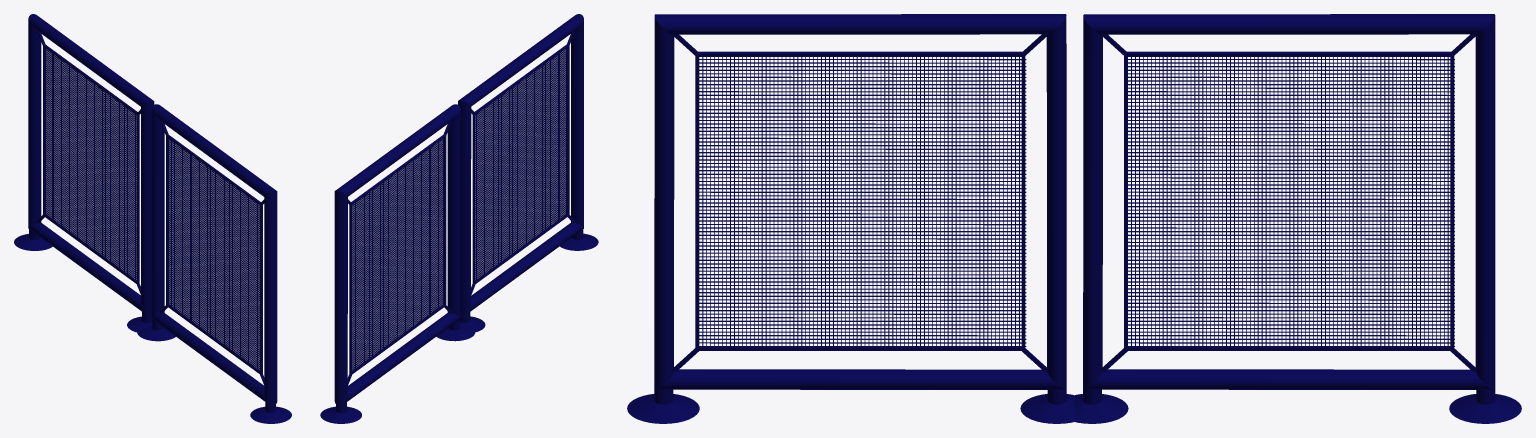
File: GradeMaquinaCartao.obj
3 views of the same model, side by side, from view 1: azimuth 30°, elevation 25°; view 2: azimuth 150°, elevation 25°; view 3: azimuth 270°, elevation 25° (orthographic). The views are drawn at different scales.
Visible parts, largest first — view 1: Mesh.231_Mesh.100_Cylinder.000, Mesh.274_Mesh.029_Cylinder.000, Mesh.085_Mesh.029_Cylinder_Cyl, Mesh.128_Mesh.100_Cylinder.002, Mesh.344_Mesh.063_Cylinder.000, Mesh.015_Mesh.063_Cylinder.001, Mesh.226_Mesh.050_Cylinder.000, Mesh.133_Mesh.050_Cylinder.003, Mesh.033_Mesh.055_Cube.028, Mesh.285_Mesh.085_Cone.000, Mesh.326_Mesh.055_Cube.000, Mesh.309_Mesh.152_Cube.000 (+41 smaller); view 2: Mesh.085_Mesh.029_Cylinder_Cyl, Mesh.128_Mesh.100_Cylinder.002, Mesh.231_Mesh.100_Cylinder.000, Mesh.274_Mesh.029_Cylinder.000, Mesh.344_Mesh.063_Cylinder.000, Mesh.015_Mesh.063_Cylinder.001, Mesh.133_Mesh.050_Cylinder.003, Mesh.226_Mesh.050_Cylinder.000, Mesh.050_Mesh.152_Cube.032, Mesh.309_Mesh.152_Cube.000, Mesh.326_Mesh.055_Cube.000, Mesh.033_Mesh.055_Cube.028 (+41 smaller); view 3: Mesh.344_Mesh.063_Cylinder.000, Mesh.015_Mesh.063_Cylinder.001, Mesh.133_Mesh.050_Cylinder.003, Mesh.226_Mesh.050_Cylinder.000, Mesh.085_Mesh.029_Cylinder_Cyl, Mesh.231_Mesh.100_Cylinder.000, Mesh.274_Mesh.029_Cylinder.000, Mesh.128_Mesh.100_Cylinder.002, Mesh.355_Mesh.155_Cube.000, Mesh.004_Mesh.155_Cube.034, Mesh.054_Mesh.137_Cone.014, Mesh.285_Mesh.085_Cone.000 (+8 smaller).
Part boxes in pixels (x1,y1,x2,y2): Mesh.231_Mesh.100_Cylinder.000: [264, 191, 277, 405]; Mesh.274_Mesh.029_Cylinder.000: [151, 112, 164, 317]; Mesh.085_Mesh.029_Cylinder_Cyl: [28, 14, 41, 227]; Mesh.128_Mesh.100_Cylinder.002: [141, 100, 154, 315]; Mesh.344_Mesh.063_Cylinder.000: [151, 104, 276, 196]; Mesh.015_Mesh.063_Cylinder.001: [28, 14, 152, 106]; Mesh.226_Mesh.050_Cylinder.000: [151, 312, 265, 401]; Mesh.133_Mesh.050_Cylinder.003: [28, 222, 142, 311]; Mesh.033_Mesh.055_Cube.028: [136, 114, 139, 284]; Mesh.285_Mesh.085_Cone.000: [250, 406, 291, 423]; Mesh.326_Mesh.055_Cube.000: [260, 205, 262, 374]; Mesh.309_Mesh.152_Cube.000: [166, 135, 168, 305]; Mesh.085_Mesh.029_Cylinder_Cyl: [334, 190, 347, 405]; Mesh.128_Mesh.100_Cylinder.002: [447, 111, 460, 317]; Mesh.231_Mesh.100_Cylinder.000: [571, 21, 583, 227]; Mesh.274_Mesh.029_Cylinder.000: [458, 100, 471, 315]; Mesh.344_Mesh.063_Cylinder.000: [459, 14, 583, 106]; Mesh.015_Mesh.063_Cylinder.001: [336, 104, 460, 196]; Mesh.133_Mesh.050_Cylinder.003: [345, 312, 460, 402]; Mesh.226_Mesh.050_Cylinder.000: [468, 222, 583, 312]; Mesh.050_Mesh.152_Cube.032: [349, 205, 352, 374]; Mesh.309_Mesh.152_Cube.000: [472, 115, 475, 283]; Mesh.326_Mesh.055_Cube.000: [566, 45, 569, 215]; Mesh.033_Mesh.055_Cube.028: [443, 136, 446, 305]; Mesh.344_Mesh.063_Cylinder.000: [654, 14, 1066, 34]; Mesh.015_Mesh.063_Cylinder.001: [1083, 14, 1494, 34]; Mesh.133_Mesh.050_Cylinder.003: [1087, 369, 1493, 389]; Mesh.226_Mesh.050_Cylinder.000: [658, 369, 1064, 389]; Mesh.085_Mesh.029_Cylinder_Cyl: [1475, 15, 1495, 389]; Mesh.231_Mesh.100_Cylinder.000: [654, 17, 674, 390]; Mesh.274_Mesh.029_Cylinder.000: [1046, 17, 1066, 389]; Mesh.128_Mesh.100_Cylinder.002: [1083, 17, 1102, 390]; Mesh.355_Mesh.155_Cube.000: [696, 51, 1023, 56]; Mesh.004_Mesh.155_Cube.034: [1127, 51, 1451, 56]; Mesh.054_Mesh.137_Cone.014: [1449, 394, 1521, 423]; Mesh.285_Mesh.085_Cone.000: [627, 394, 699, 423].
Bounding box in the file's own units: 0.3677 × 2.19 × 4.52.
